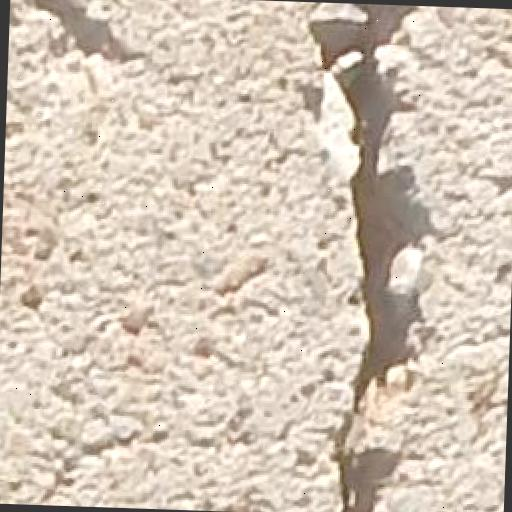spalling: (287, 6, 452, 507)
